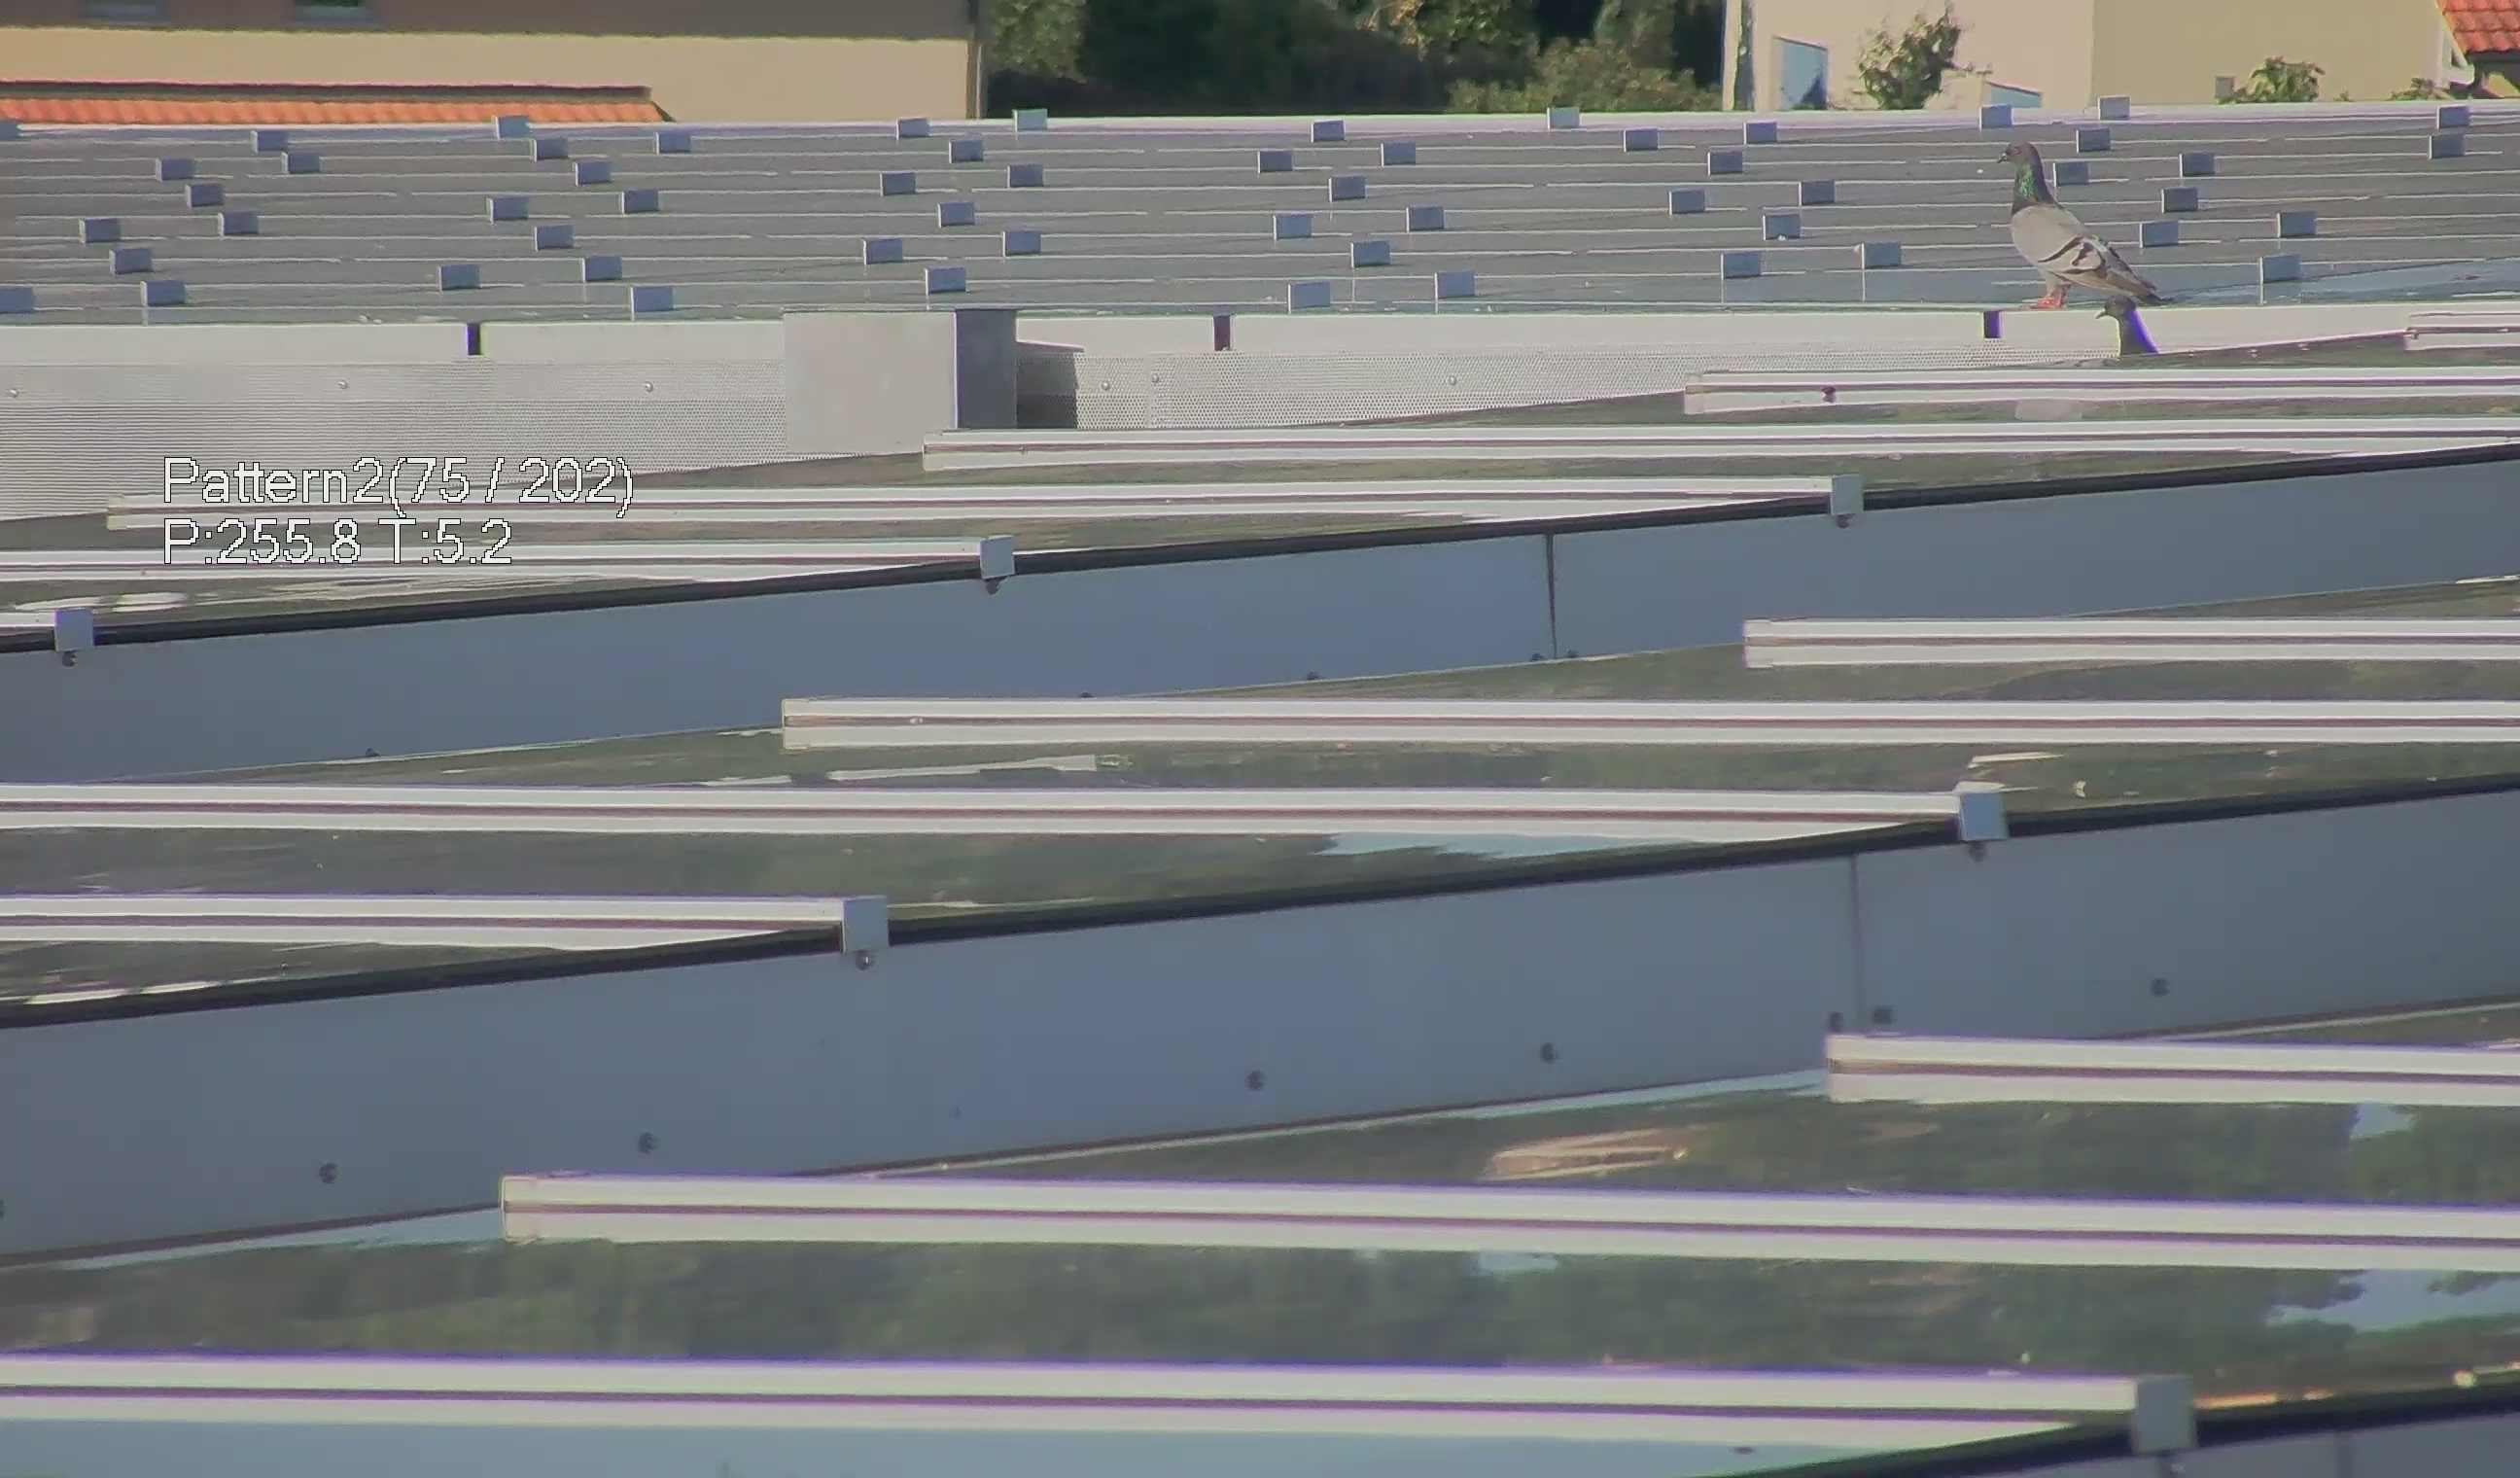Pigeon: (1985, 109, 2167, 317), (2087, 290, 2175, 366)
